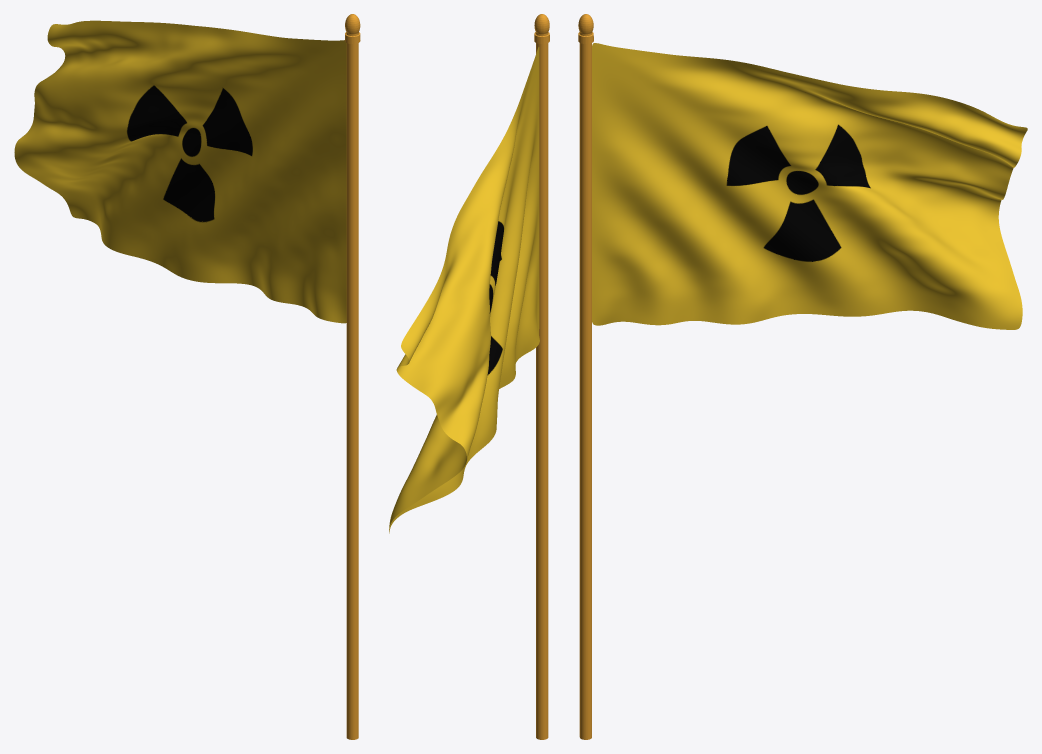
File: flagrad.fbx
The picture shows the model from 3 angles, left to right: view 1: azimuth 30°, elevation 25°; view 2: azimuth 150°, elevation 25°; view 3: azimuth 270°, elevation 25°; orthographic projection.
Visible parts, largest first — view 1: steag, stick; view 2: steag, stick; view 3: steag, stick.
Part boxes in pixels (box(x1,y1,x2,y2)): steag: box(14, 20, 346, 323); stick: box(344, 14, 360, 739); steag: box(389, 47, 539, 533); stick: box(534, 14, 549, 739); steag: box(592, 43, 1027, 329); stick: box(578, 14, 593, 739).
Size of the model in its own units: 40.65 by 203 by 114.
Materials: 2 (1 with a texture image).
